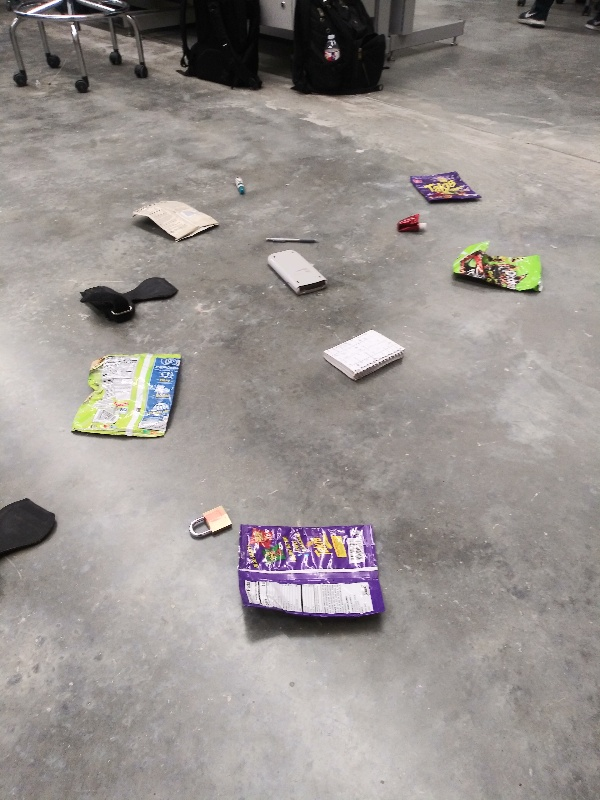bag: (231, 518, 390, 644), (66, 350, 190, 442), (449, 239, 549, 302), (124, 197, 225, 243), (402, 169, 487, 208)
bottle: (322, 30, 344, 65)
